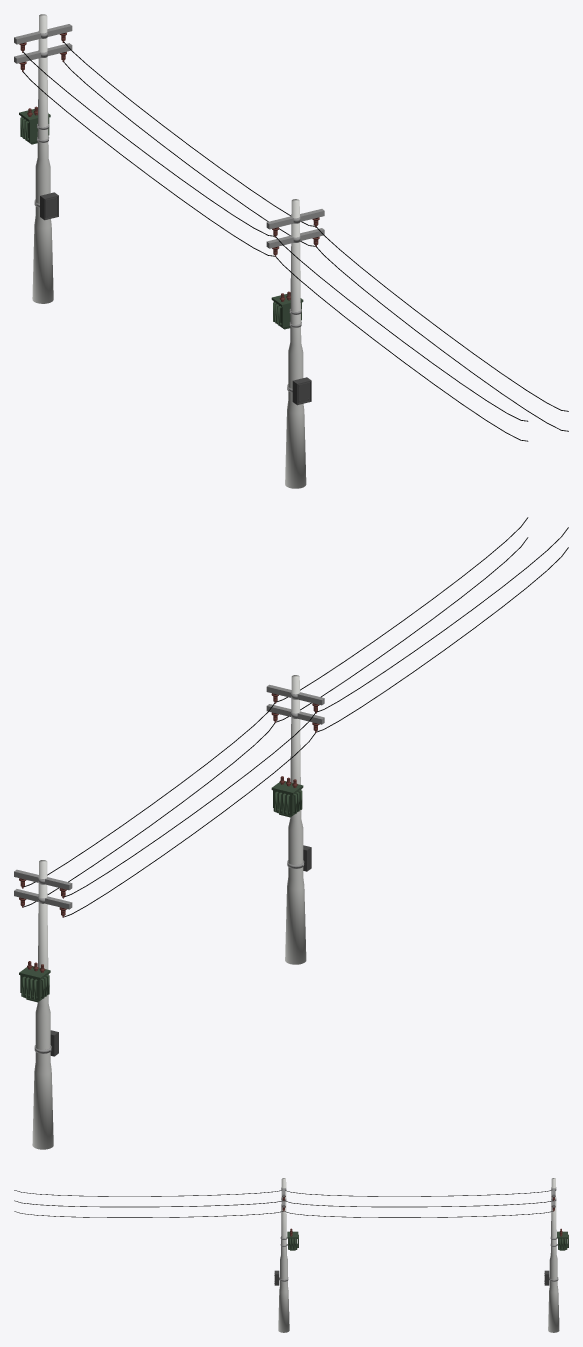
File: UtilityPole.fbx
3 renders of one model, top to bottom at view 1: azimuth 30°, elevation 25°; view 2: azimuth 150°, elevation 25°; view 3: azimuth 270°, elevation 25°, orthographic. The views are drawn at different scales.
Visible parts, largest first — view 1: Cylinder.013, BézierCurve.004, Cylinder.020, Cube.007, Cube.006; view 2: Cylinder.013, BézierCurve.004, Cylinder.020, Cube.007; view 3: Cylinder.013, BézierCurve.004, Cube.007, Cylinder.020.
Boxes of the visible parts, <box> form: Cylinder.013: <box>32,14,306,488</box>; BézierCurve.004: <box>23,41,568,441</box>; Cylinder.020: <box>14,24,324,392</box>; Cube.007: <box>19,109,303,329</box>; Cube.006: <box>40,192,311,405</box>; Cylinder.013: <box>32,675,306,1149</box>; BézierCurve.004: <box>23,517,568,916</box>; Cylinder.020: <box>14,684,324,1053</box>; Cube.007: <box>19,781,303,1002</box>; Cylinder.013: <box>278,1178,559,1332</box>; BézierCurve.004: <box>14,1190,552,1217</box>; Cube.007: <box>287,1231,568,1250</box>; Cylinder.020: <box>279,1187,558,1281</box>.
Size of the model in its own units: 733 by 3583 by 11902.
